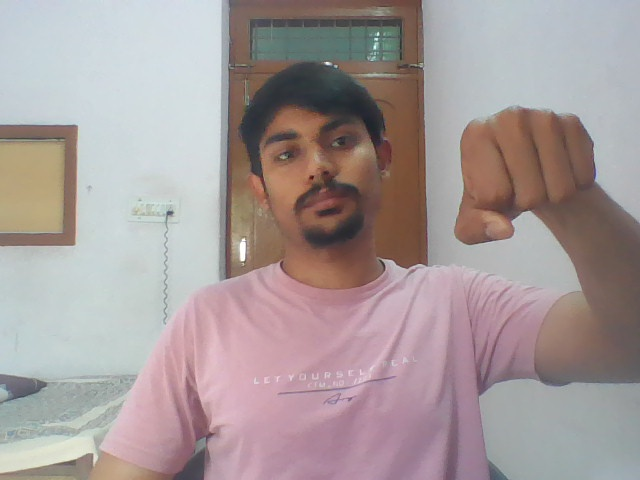Yes: (436, 101, 610, 250)
